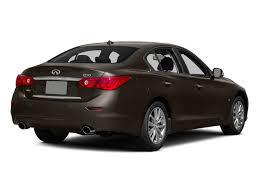car: (9, 40, 246, 147)
